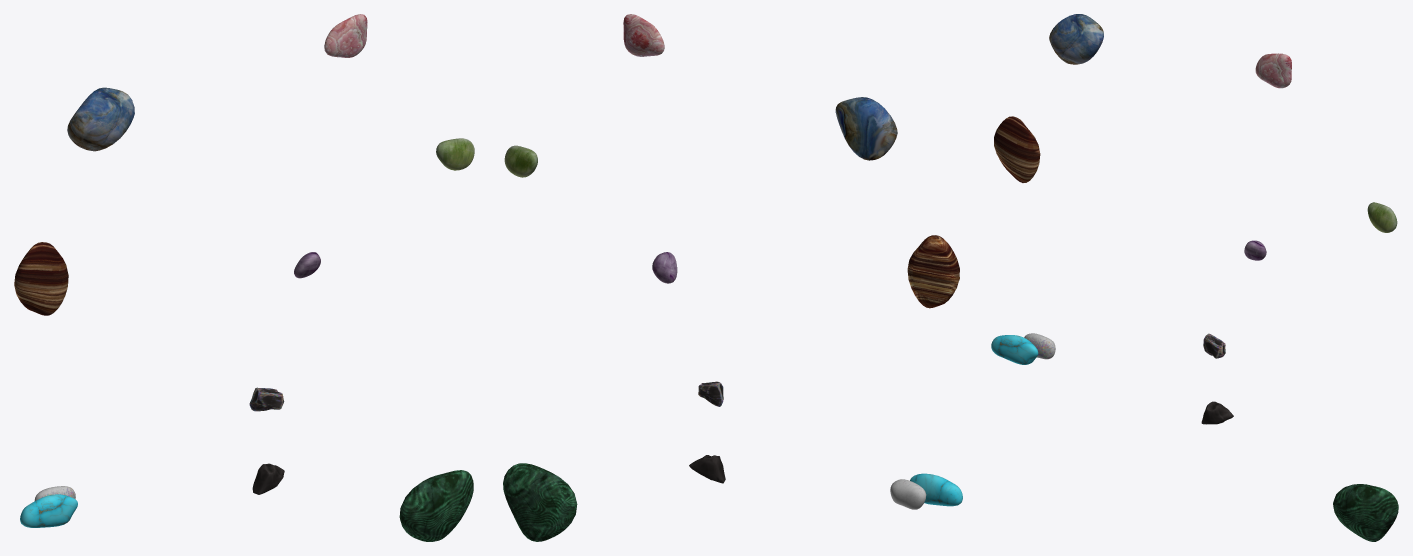
File: pebbles.glb
3 views of the same model, side by side, from view 1: azimuth 30°, elevation 25°; view 2: azimuth 150°, elevation 25°; view 3: azimuth 330°, elevation 25° (orthographic). The views are drawn at different scales.
Visible parts, largest first — view 1: malachite stone_polished gemstones_0, blue quartz stone_polished gemstones_0, Tiger's eye stone_polished gemstones_0, turquoise stone_polished gemstones_0, agate stone_polished gemstones_0, jade stone_polished gemstones_0, obsidian stone_polished gemstones_0, rainbow obsidian stone_polished gemstones_0; view 2: malachite stone_polished gemstones_0, Tiger's eye stone_polished gemstones_0, blue quartz stone_polished gemstones_0, agate stone_polished gemstones_0, turquoise stone_polished gemstones_0, jade stone_polished gemstones_0, opal stone_polished gemstones_0, obsidian stone_polished gemstones_0, amethyst stone_polished gemstones_0; view 3: malachite stone_polished gemstones_0, Tiger's eye stone_polished gemstones_0, blue quartz stone_polished gemstones_0, agate stone_polished gemstones_0, turquoise stone_polished gemstones_0, jade stone_polished gemstones_0, obsidian stone_polished gemstones_0, opal stone_polished gemstones_0.
Boxes of the visible parts, x1,y1,x2,y2 form: malachite stone_polished gemstones_0: (399,470,473,541); blue quartz stone_polished gemstones_0: (67,87,134,151); Tiger's eye stone_polished gemstones_0: (14,242,68,315); turquoise stone_polished gemstones_0: (20,494,77,527); agate stone_polished gemstones_0: (324,14,367,57); jade stone_polished gemstones_0: (436,138,474,170); obsidian stone_polished gemstones_0: (252,463,284,494); rainbow obsidian stone_polished gemstones_0: (249,387,284,411); malachite stone_polished gemstones_0: (503,463,577,541); Tiger's eye stone_polished gemstones_0: (907,235,959,308); blue quartz stone_polished gemstones_0: (835,97,897,160); agate stone_polished gemstones_0: (623,14,664,56); turquoise stone_polished gemstones_0: (910,473,962,506); jade stone_polished gemstones_0: (504,145,537,177); opal stone_polished gemstones_0: (890,479,926,509); obsidian stone_polished gemstones_0: (689,455,725,483); amethyst stone_polished gemstones_0: (652,252,677,283); malachite stone_polished gemstones_0: (1333,484,1398,541); Tiger's eye stone_polished gemstones_0: (994,116,1040,182); blue quartz stone_polished gemstones_0: (1049,14,1103,64); agate stone_polished gemstones_0: (1255,53,1291,88); turquoise stone_polished gemstones_0: (991,335,1038,364); jade stone_polished gemstones_0: (1367,202,1397,232); obsidian stone_polished gemstones_0: (1201,401,1233,424); opal stone_polished gemstones_0: (1024,333,1055,359).
Bounding box in the file's own units: 1.37 × 1.57 × 0.1295.
Materials: 1 (1 with a texture image).
